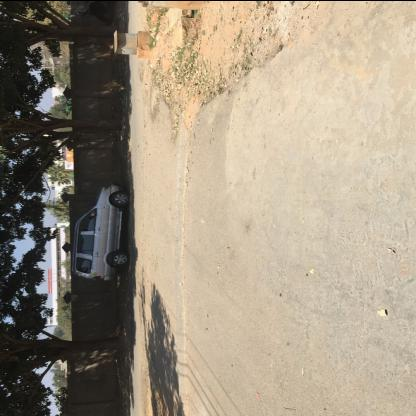speed-bumps: (168, 111, 200, 415)
